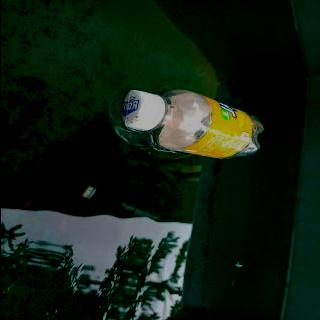bottle: (120, 89, 266, 160)
